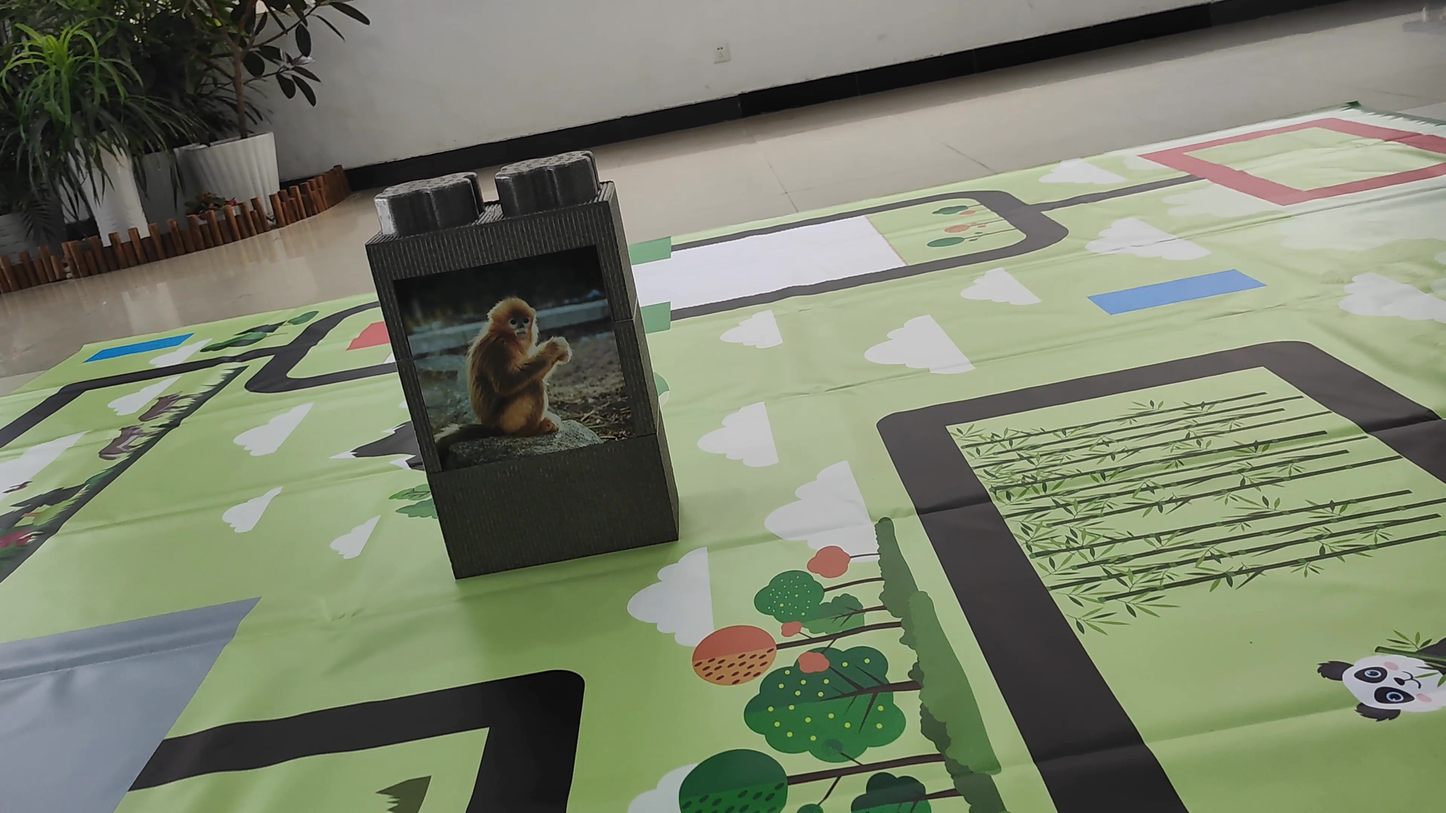monkey: (419, 264, 625, 463)
